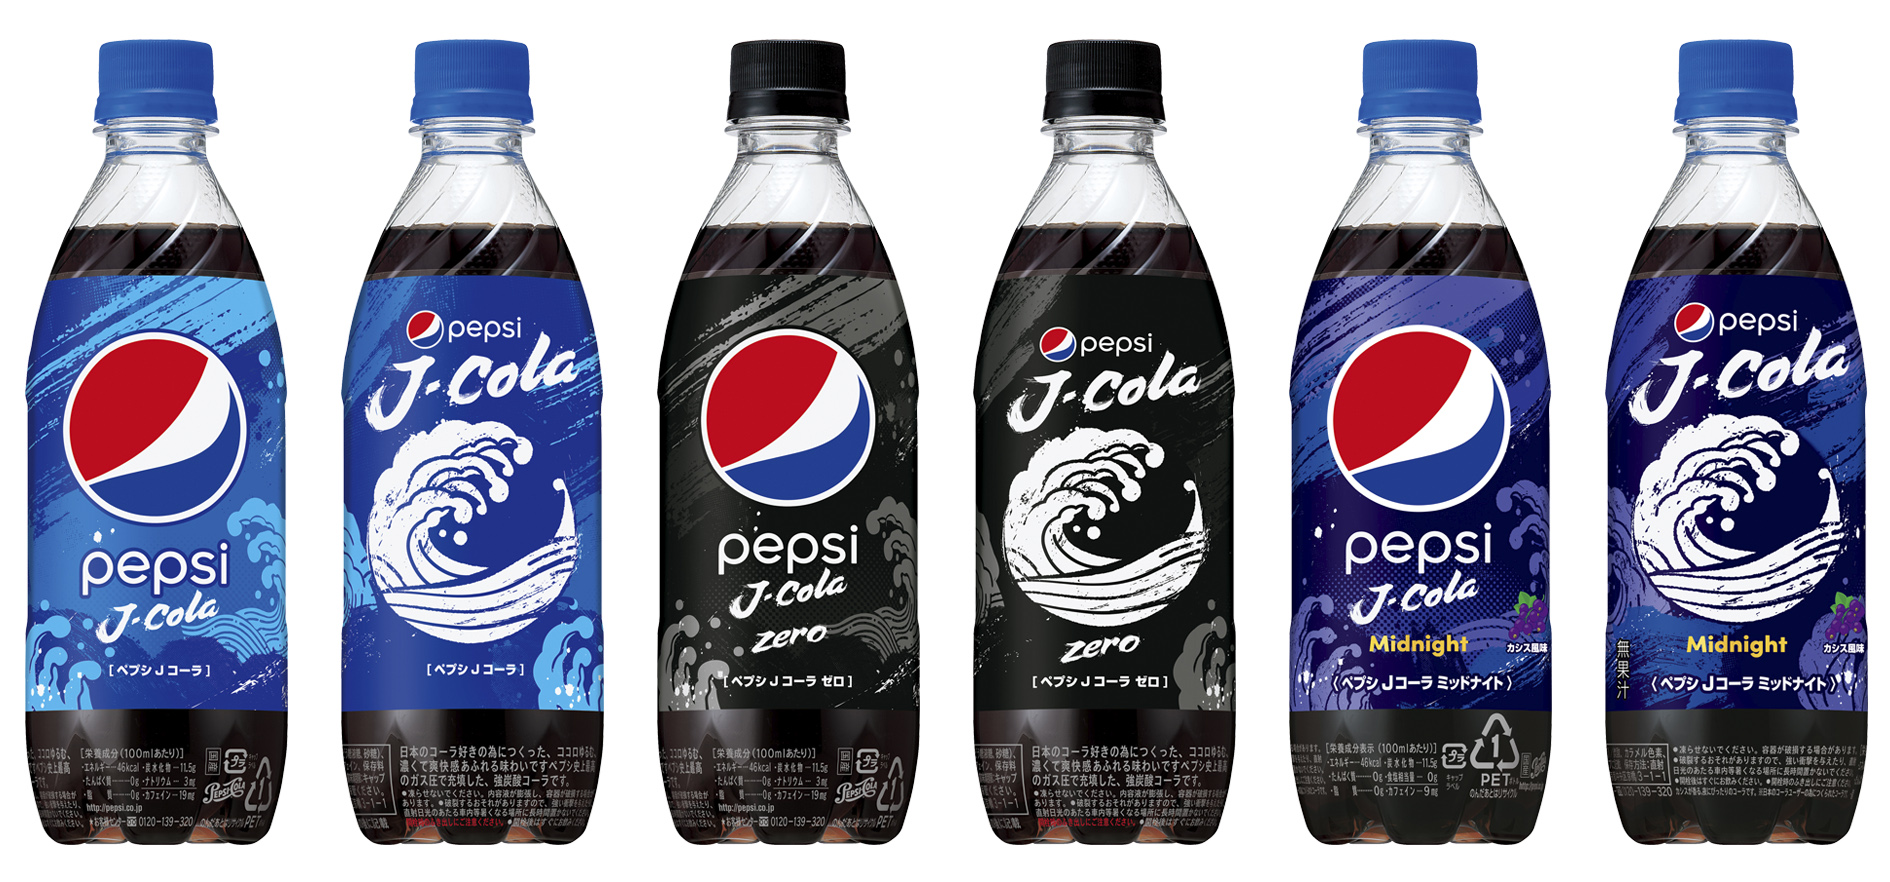pepsi: (63, 328, 247, 524), (1323, 324, 1512, 512), (1323, 325, 1512, 512), (697, 327, 876, 504), (1672, 296, 1714, 342), (1037, 321, 1078, 361), (405, 308, 444, 349)
